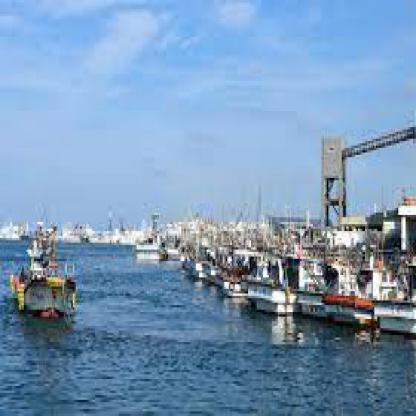fish-b: (6, 220, 79, 328)
